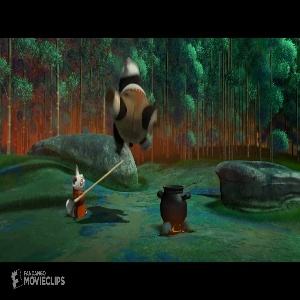po: (105, 55, 159, 158)
shifu: (61, 163, 95, 223)
